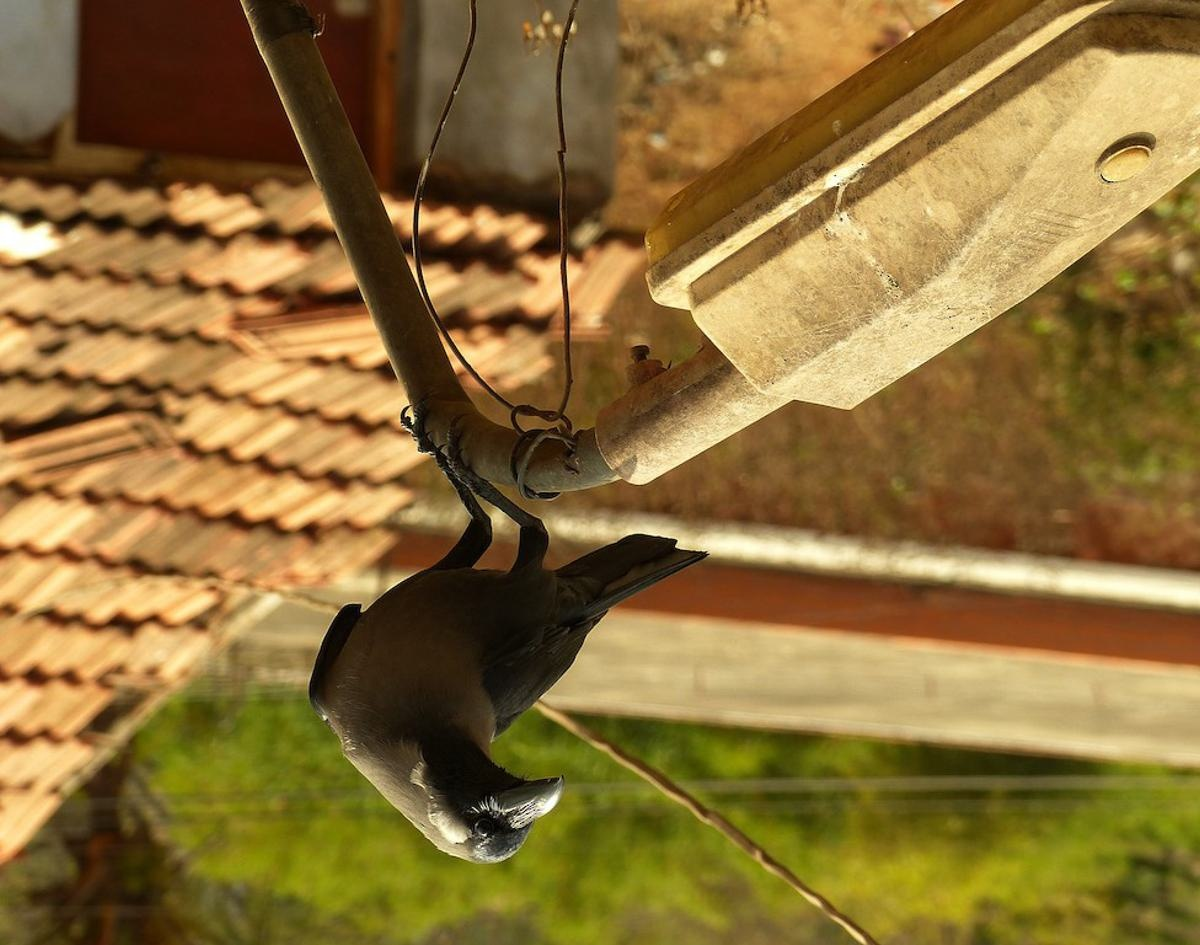crow: (289, 444, 711, 867)
